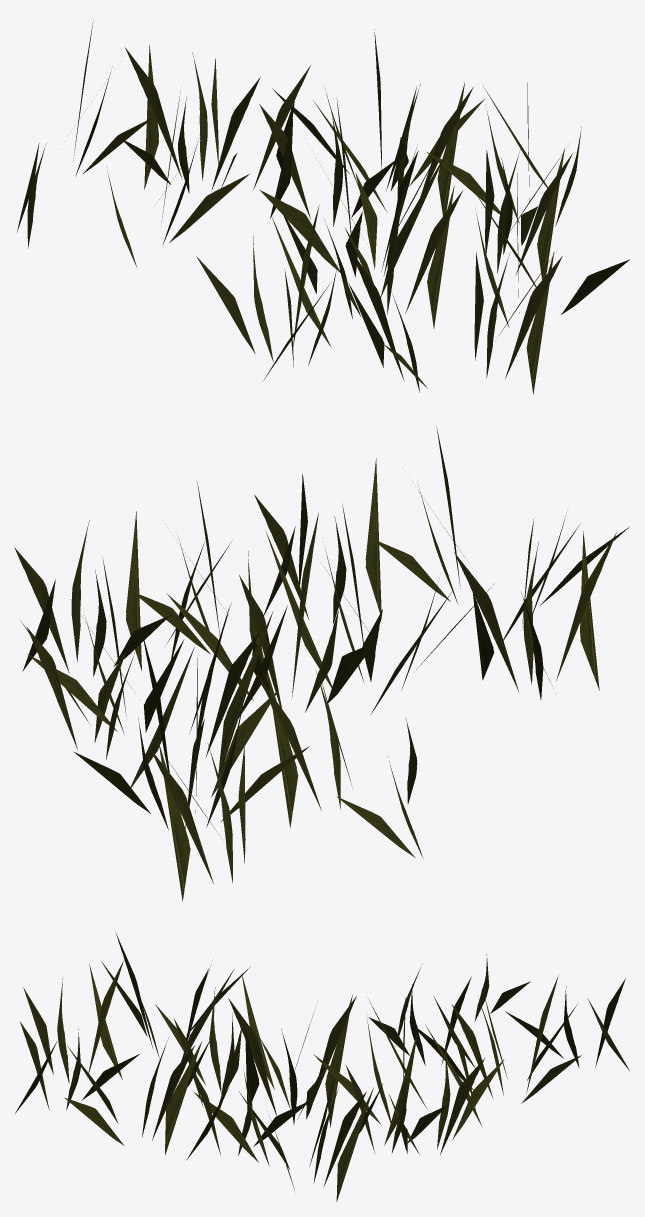
File: SM_Cave_Grass01.609a9e49.glb
3 renders of one model, top to bottom at view 1: azimuth 30°, elevation 25°; view 2: azimuth 150°, elevation 25°; view 3: azimuth 270°, elevation 25°, orthographic. The views are drawn at different scales.
Parts seen in each view (by area): view 1: SM_Cave_Grass01; view 2: SM_Cave_Grass01; view 3: SM_Cave_Grass01.
Boxes of the visible parts, box(x1,y1,x2,y2) form: SM_Cave_Grass01: box(17, 19, 629, 394); SM_Cave_Grass01: box(14, 425, 628, 901); SM_Cave_Grass01: box(15, 932, 629, 1201).
Size of the model in its own units: 1.11 by 0.3633 by 1.58.
Materials: 1 (1 with a texture image).
